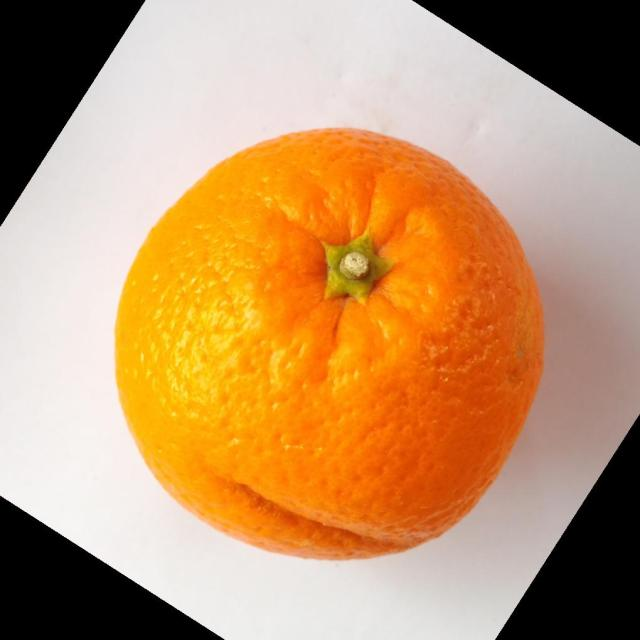fresh orange: (113, 125, 546, 561)
